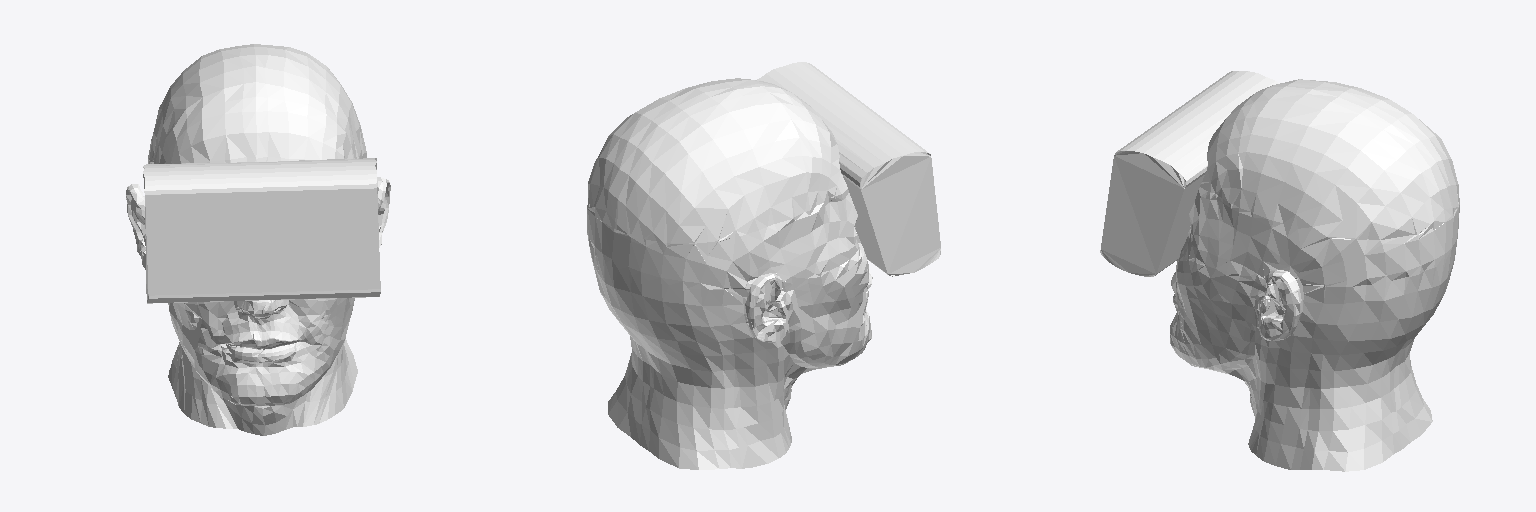
The model's file is Thing_9.obj.
3 renders of one model, left to right at view 1: azimuth 30°, elevation 25°; view 2: azimuth 150°, elevation 25°; view 3: azimuth 270°, elevation 25°, orthographic.
Visible parts, largest first — view 1: Mesh74_Component_97_1_Component_98_1_Group80_Model.1; view 2: Mesh74_Component_97_1_Component_98_1_Group80_Model.1; view 3: Mesh74_Component_97_1_Component_98_1_Group80_Model.1.
Boxes of the visible parts, x1,y1,x2,y2 form: Mesh74_Component_97_1_Component_98_1_Group80_Model.1: [126, 44, 390, 435]; Mesh74_Component_97_1_Component_98_1_Group80_Model.1: [587, 62, 940, 469]; Mesh74_Component_97_1_Component_98_1_Group80_Model.1: [1100, 71, 1459, 471].
Size of the model in its own units: 8.8 by 10.45 by 9.78.